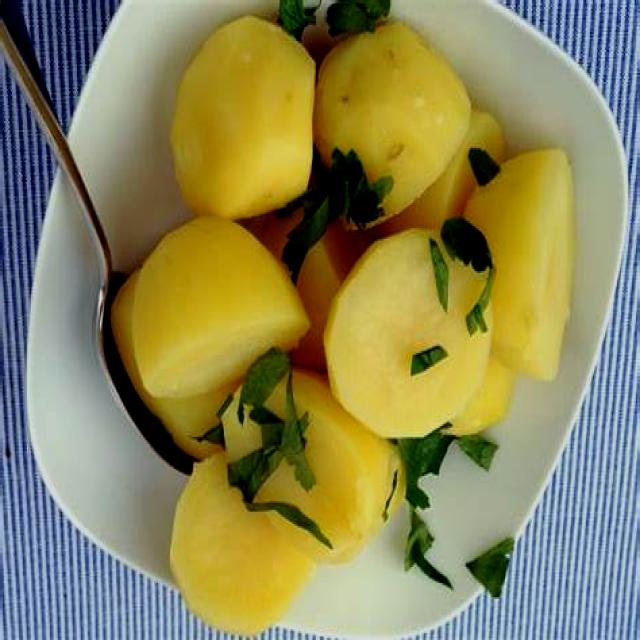kentang rebus: (107, 214, 313, 442), (323, 216, 498, 440), (301, 18, 475, 241), (169, 12, 316, 219)
